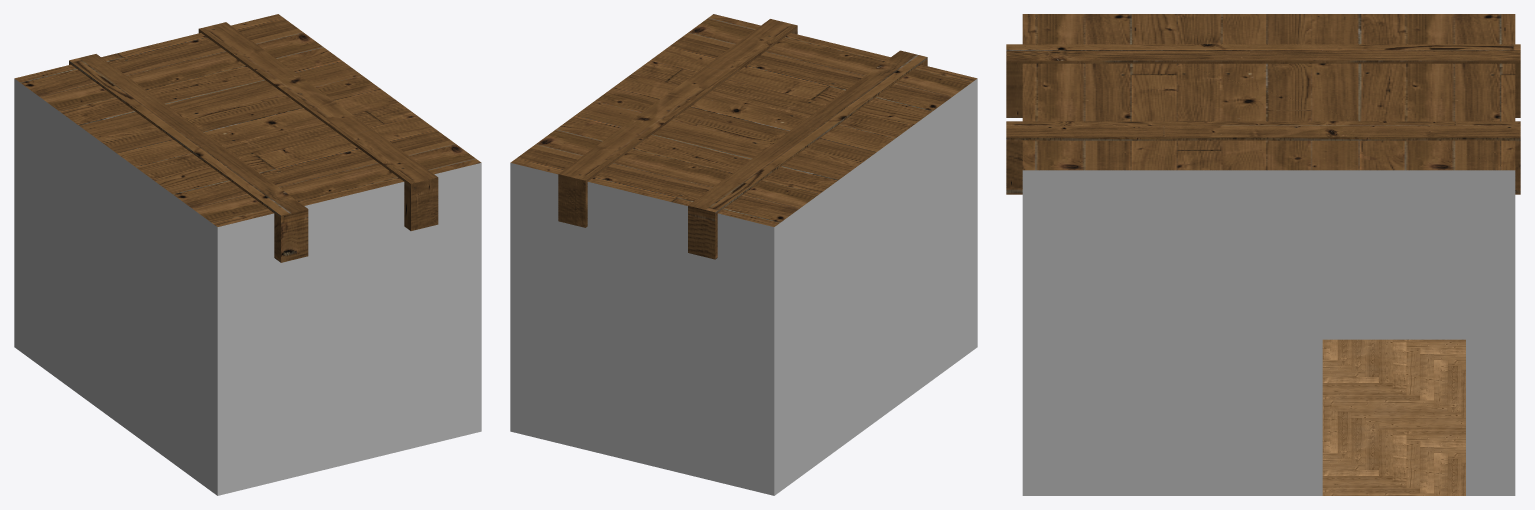
Rendered from 4×3 room.fbx.
3 views of the same model, side by side, from view 1: azimuth 30°, elevation 25°; view 2: azimuth 150°, elevation 25°; view 3: azimuth 270°, elevation 25° (orthographic). The views are drawn at different scales.
Visible parts, largest first — view 1: Cube.003; view 2: Cube.003; view 3: Cube.003.
Part boxes in pixels (x1,y1,x2,y2): Cube.003: [14, 14, 481, 495]; Cube.003: [510, 14, 977, 495]; Cube.003: [1006, 14, 1520, 495].
Bounding box in the file's own units: 300 × 295 × 417.
